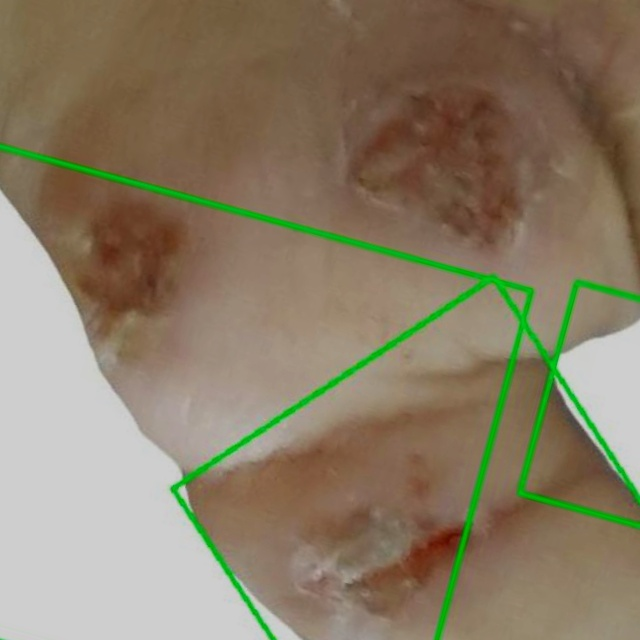Eczema: (0, 146, 531, 639), (172, 256, 639, 639), (519, 282, 639, 526)
